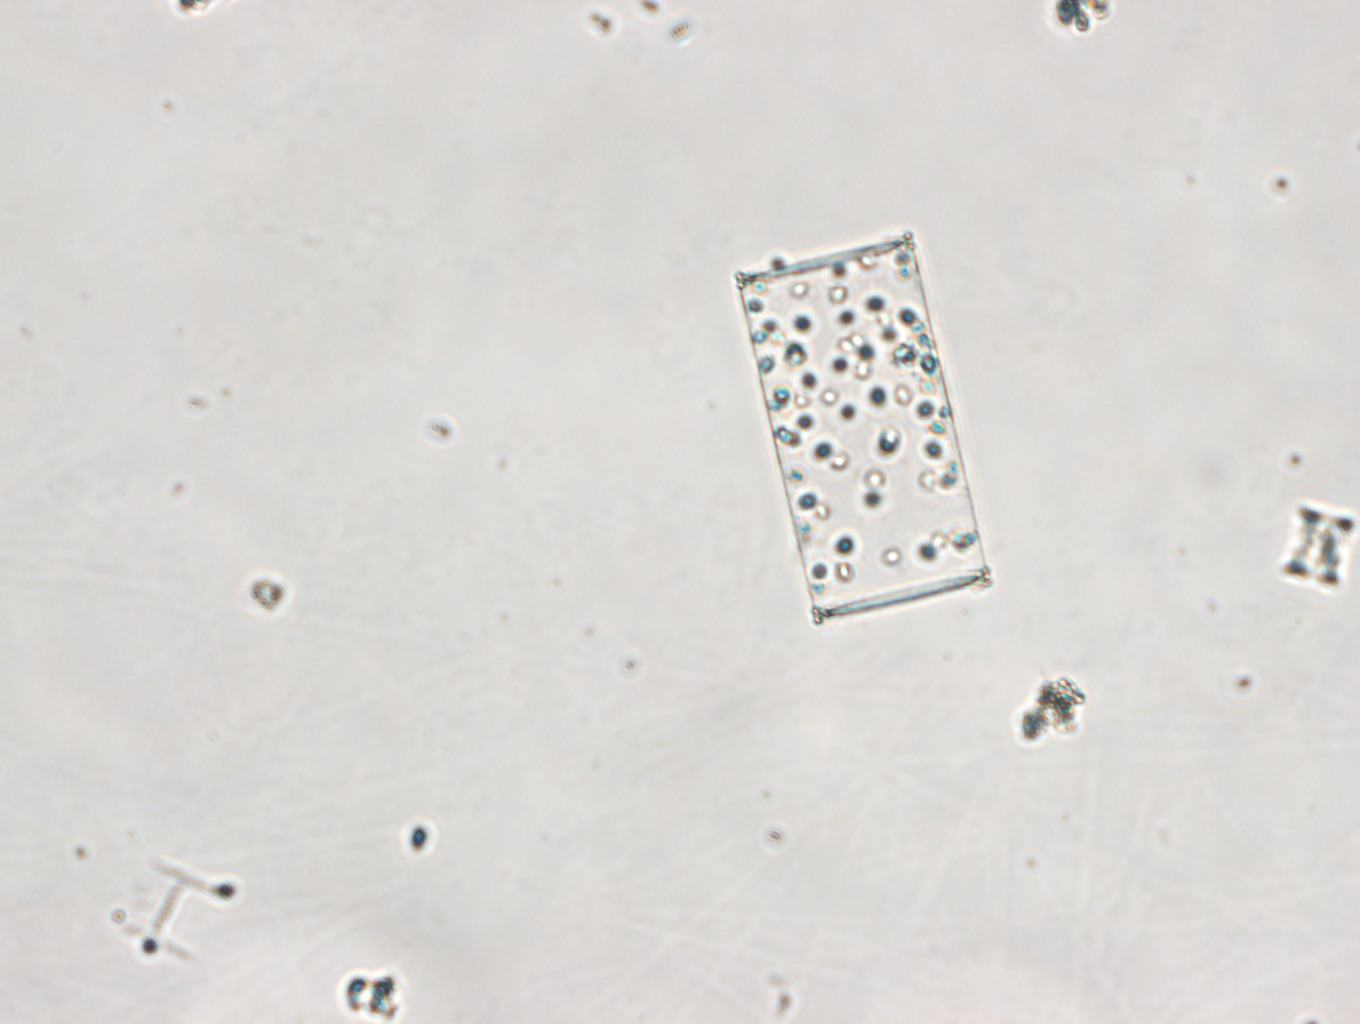guinardia flaccida: (735, 232, 993, 622)
